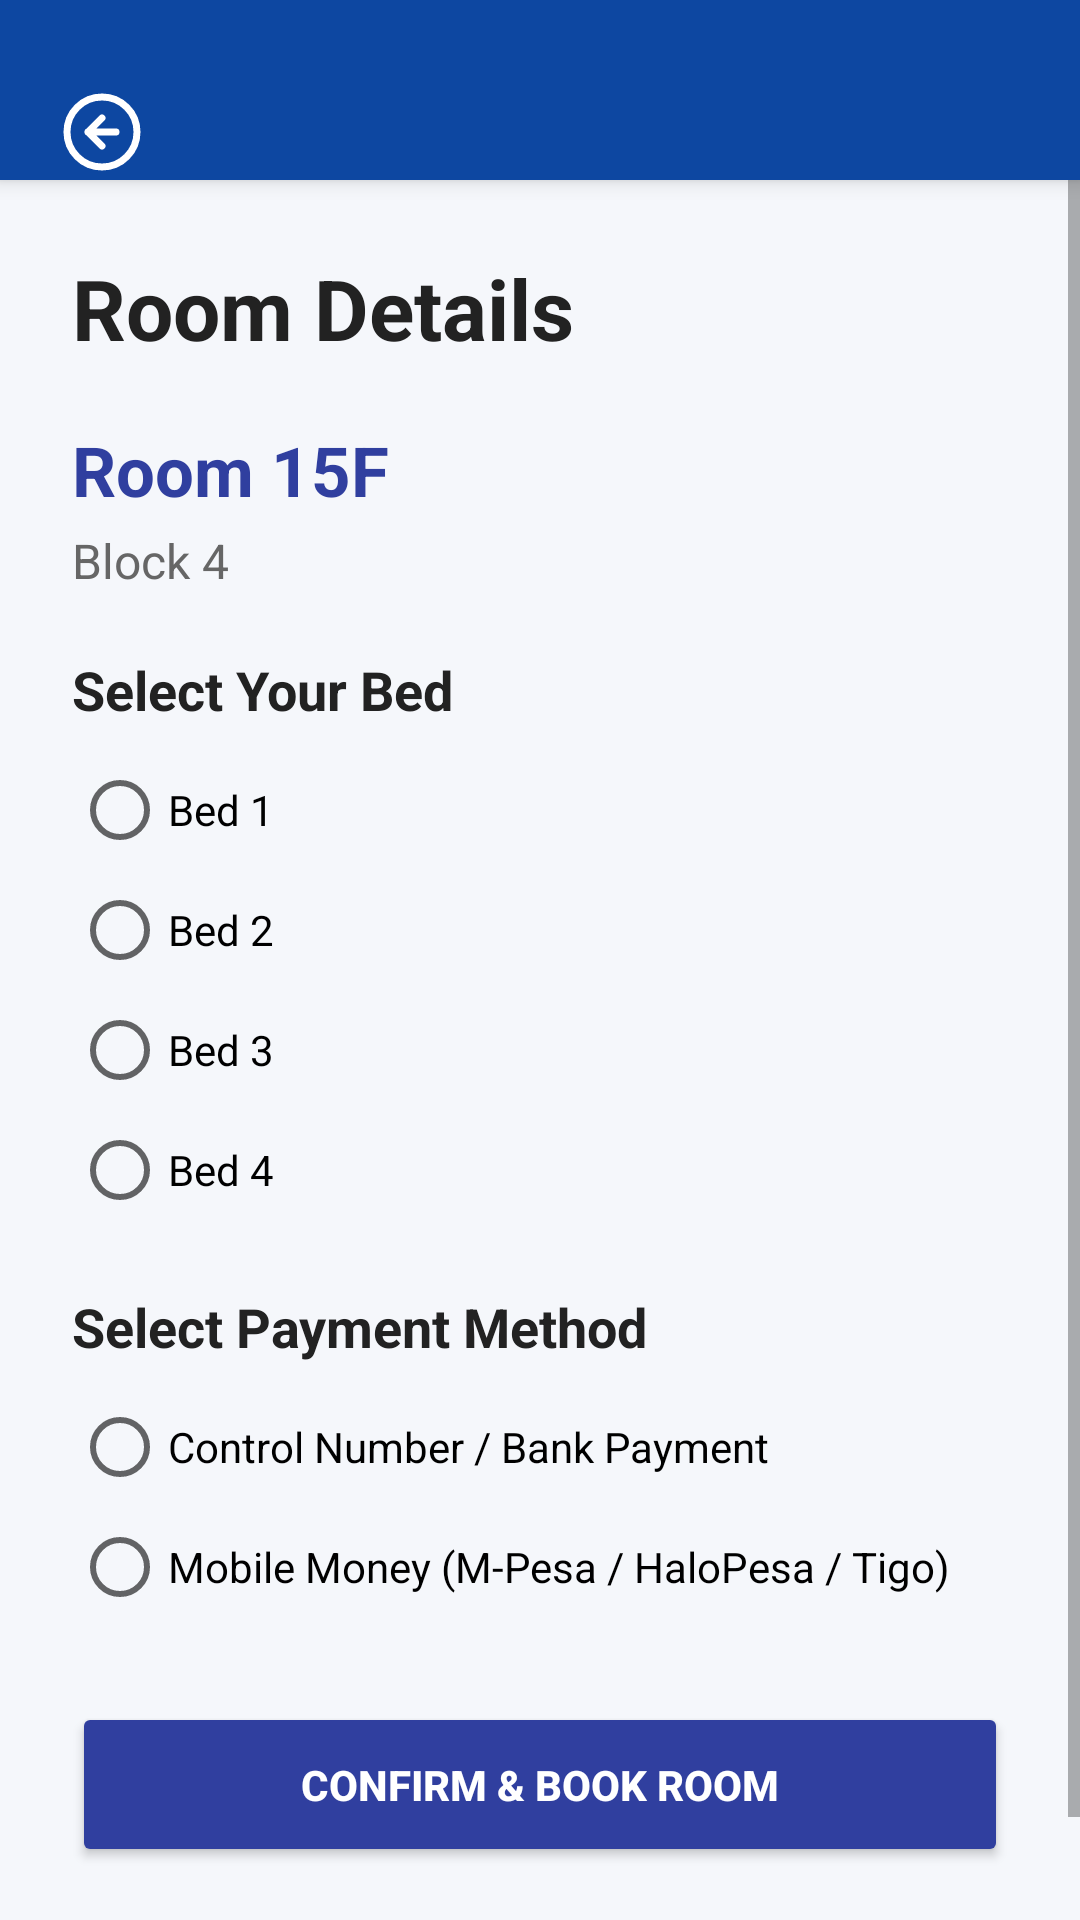

Icon bounding boxes for this 1080 × 1920 phone screenshot, format (x1, y1, x2, y2):
back arrow: (63, 93, 141, 171)
